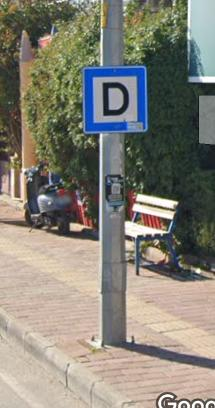station: (89, 67, 146, 129)
